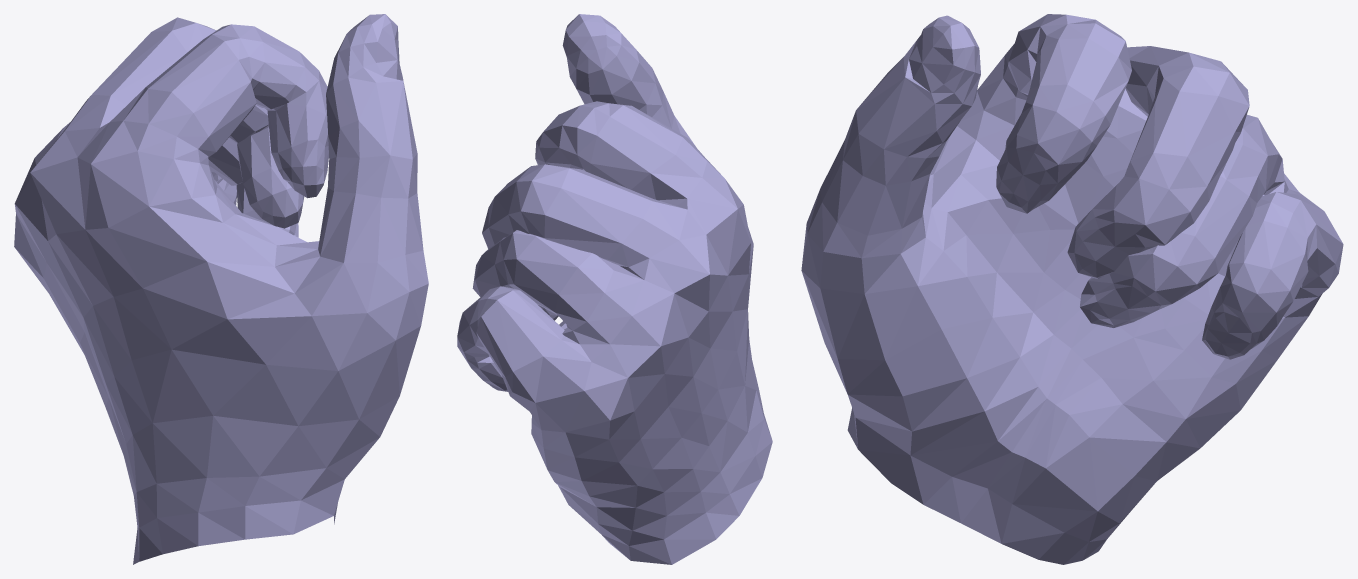
The model's file is frame_0088_source_000088_hand.glb.
3 views of the same model, side by side, from view 1: azimuth 30°, elevation 25°; view 2: azimuth 150°, elevation 25°; view 3: azimuth 270°, elevation 25° (orthographic). The views are drawn at different scales.
Parts seen in each view (by area): view 1: world; view 2: world; view 3: world.
Boxes of the visible parts, x1=… form: world: x1=14, y1=14, x2=428, y2=564; world: x1=457, y1=14, x2=772, y2=564; world: x1=801, y1=14, x2=1343, y2=564.
Size of the model in its own units: 0.0619 by 0.123 by 0.1019.
